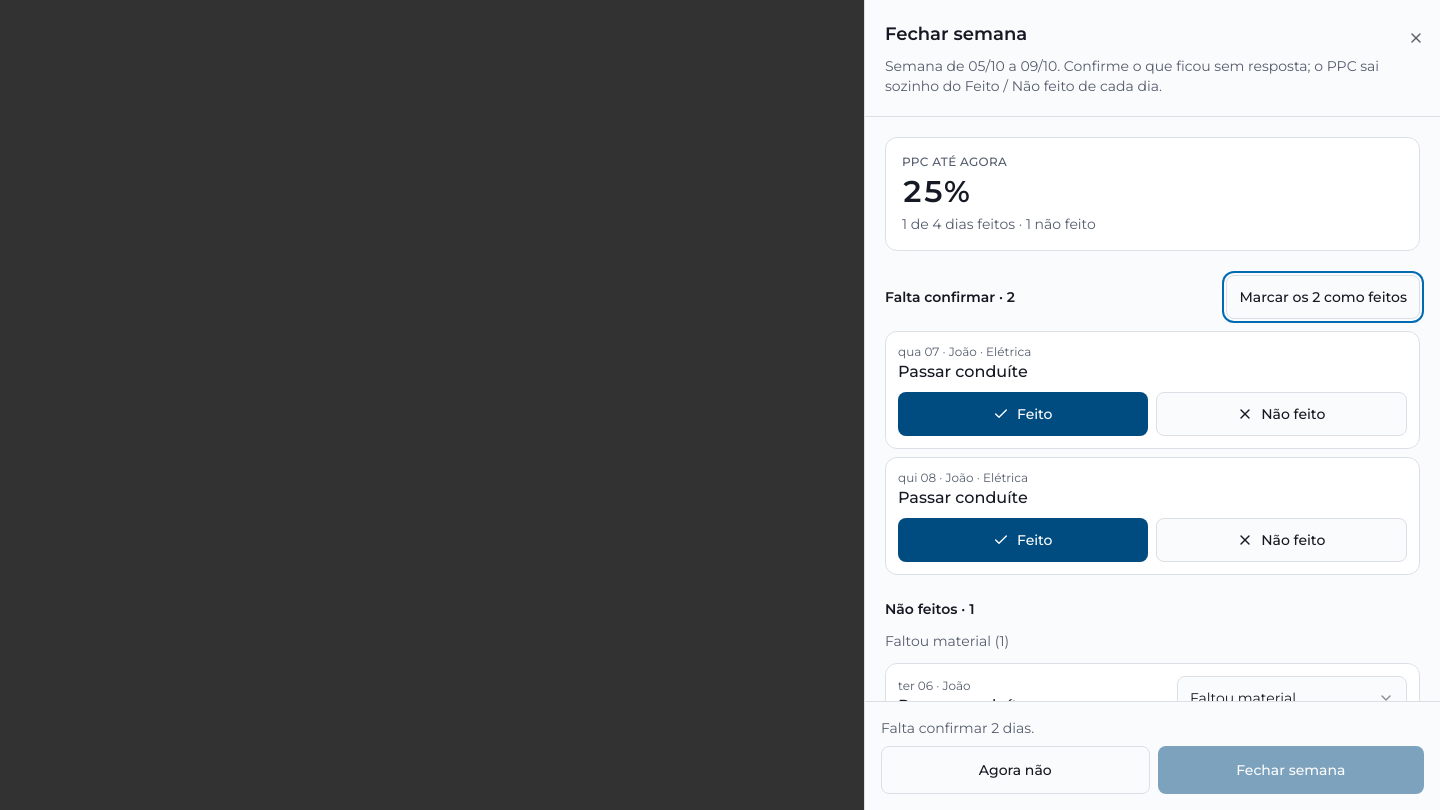
Test: CloseWeekSheet › corrigir o motivo de um não feito grava o novo motivo
The width and height of the screenshot is (1440, 810).
What coordinates should you click on to do the following:
click the dropdown named "Motivo de Passar conduíte, ter 06"
I would click on:
 (1292, 698)
Its box is left=1177, top=676, right=1407, bottom=720.
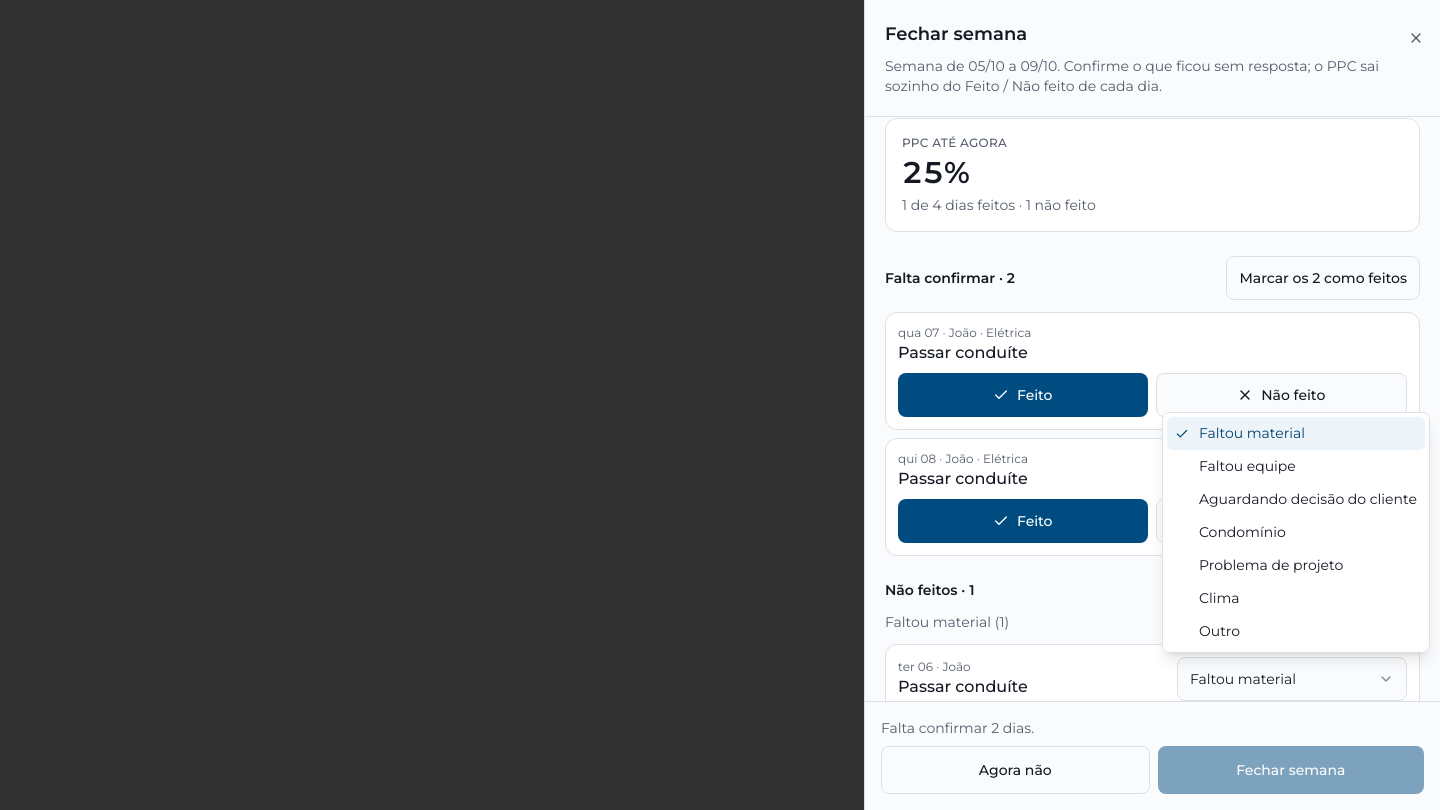
What coordinates should you click on to do the following:
click the option "Clima"
I would click on:
 (1219, 598)
Its box is left=1199, top=589, right=1240, bottom=607.
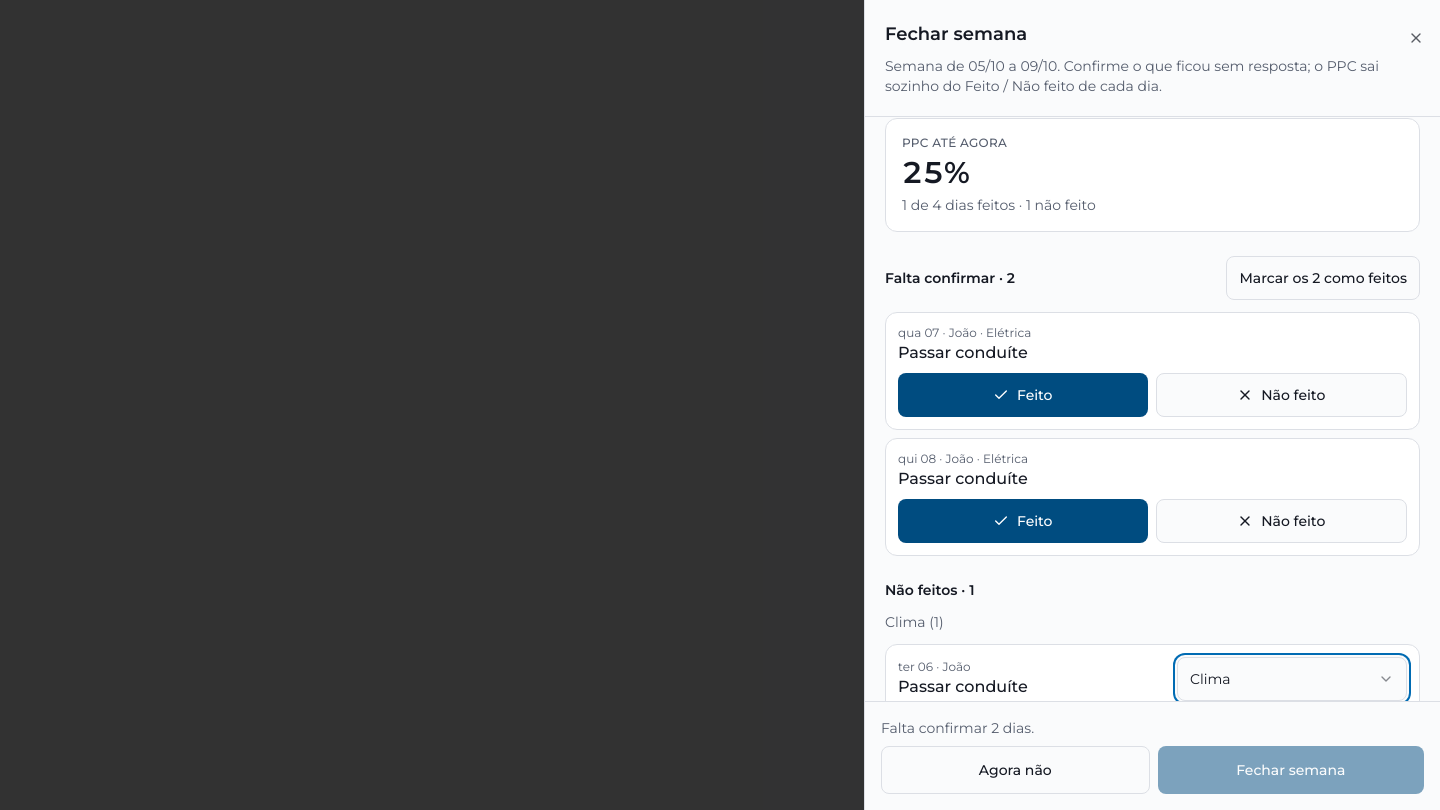
Check: the text "Clima (1)" is shown, box left=885, top=613, right=944, bottom=631
